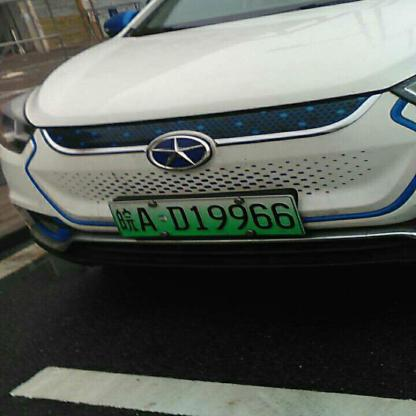lp: (110, 195, 303, 236)
